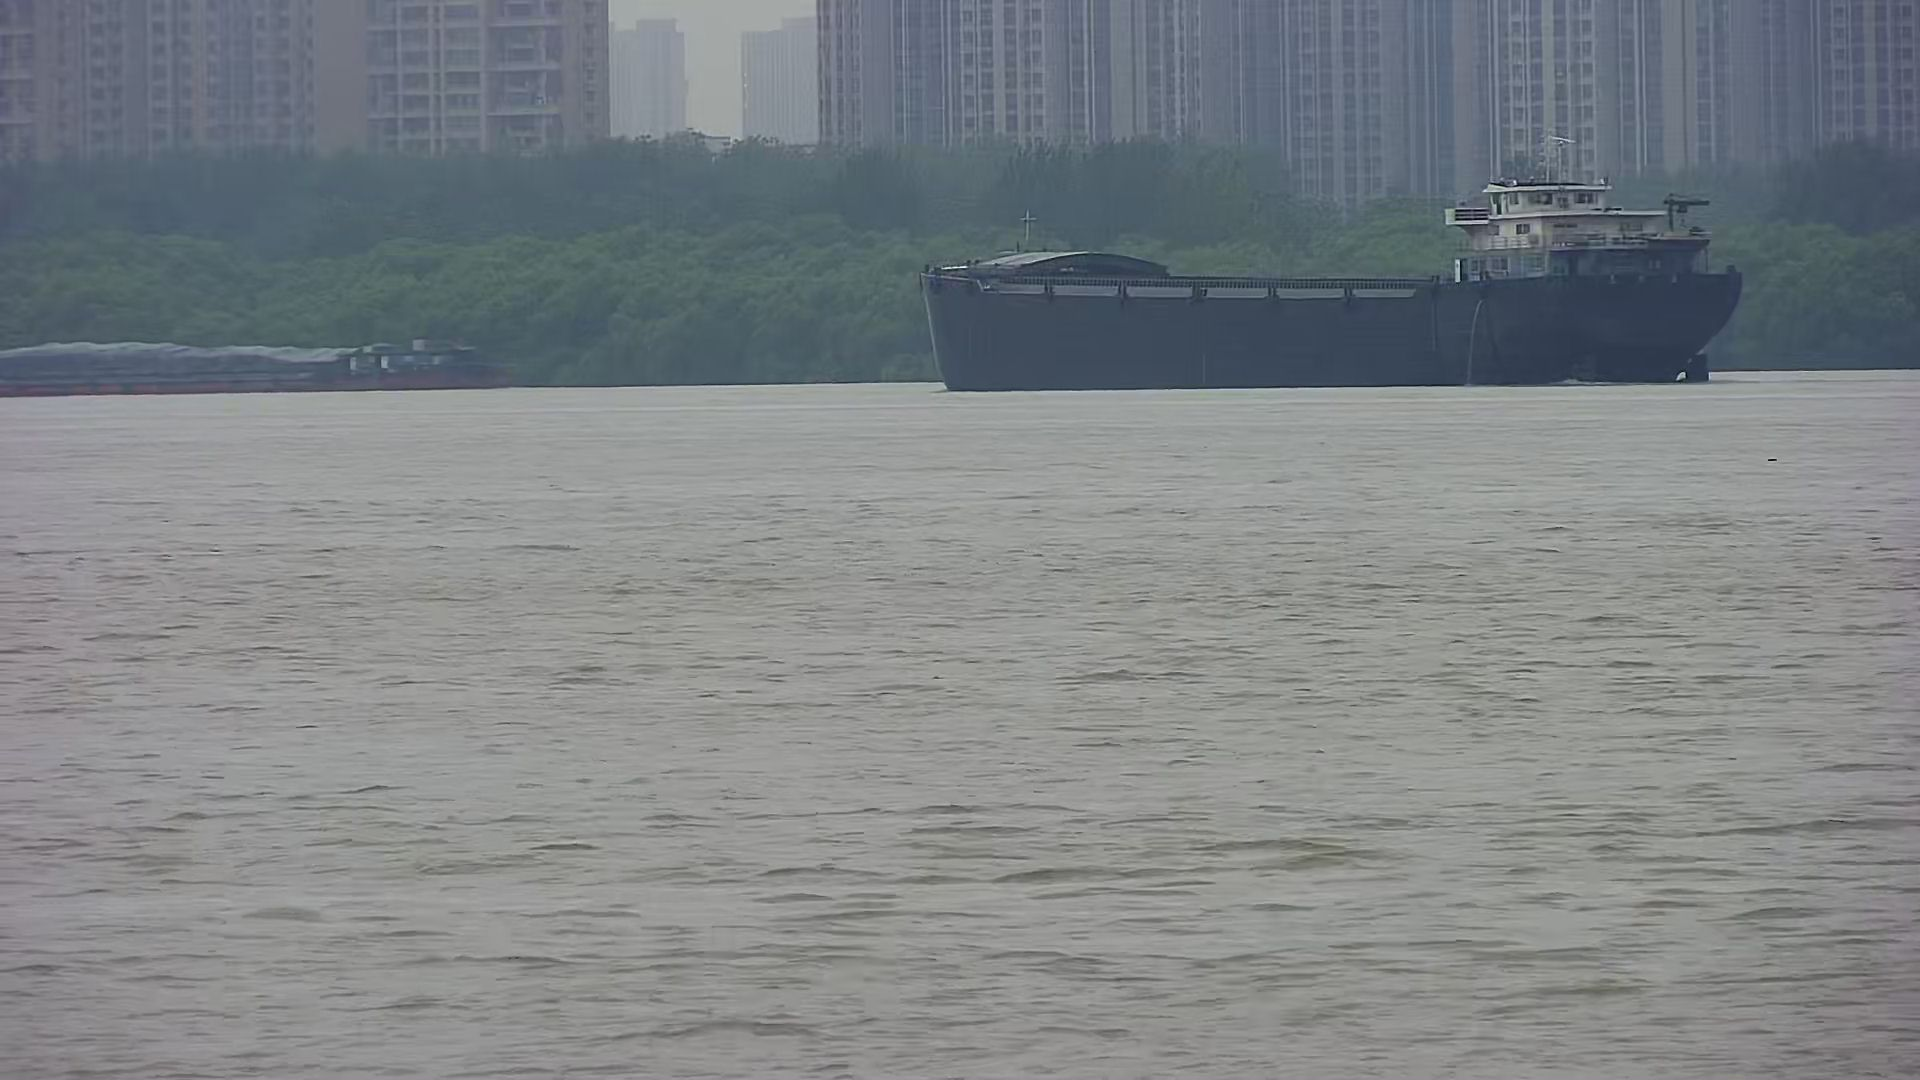ship: (918, 156, 1746, 388), (1, 331, 496, 392)
